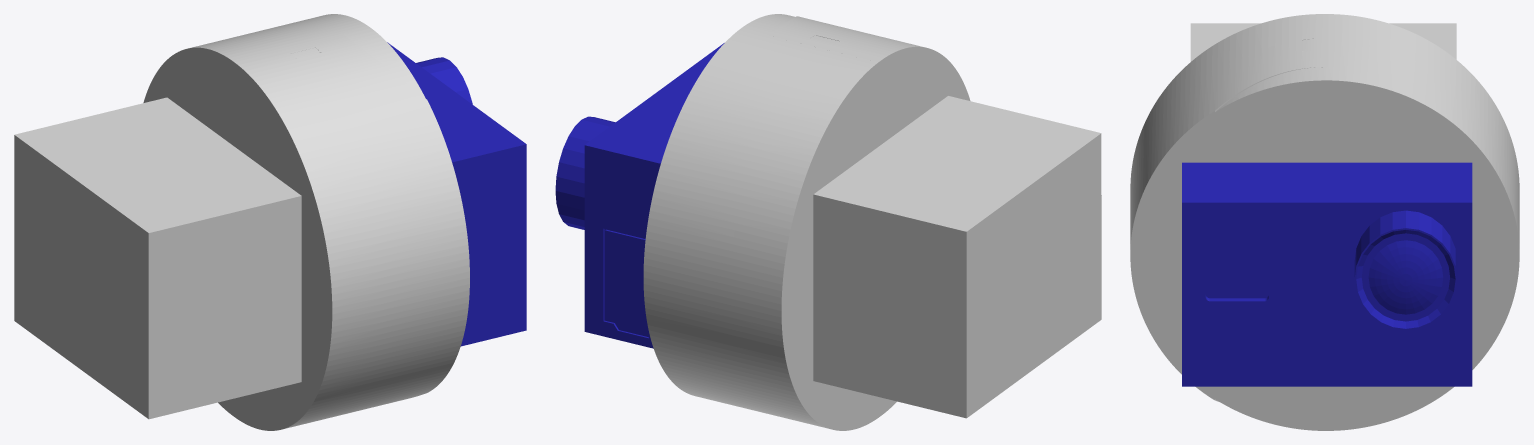
The model's file is head_link.dae.
3 views of the same model, side by side, from view 1: azimuth 30°, elevation 25°; view 2: azimuth 150°, elevation 25°; view 3: azimuth 270°, elevation 25° (orthographic).
Parts seen in each view (by area): view 1: New1, Gopro; view 2: New1, Gopro; view 3: New1, Gopro.
Part boxes in pixels (bbox=[...]): New1: bbox=[14, 14, 469, 430]; Gopro: bbox=[387, 42, 526, 346]; New1: bbox=[643, 14, 1101, 430]; Gopro: bbox=[555, 43, 724, 348]; New1: bbox=[1130, 14, 1519, 430]; Gopro: bbox=[1182, 162, 1472, 386].
Size of the model in its own units: 0.0972 by 0.0805 by 0.08.
